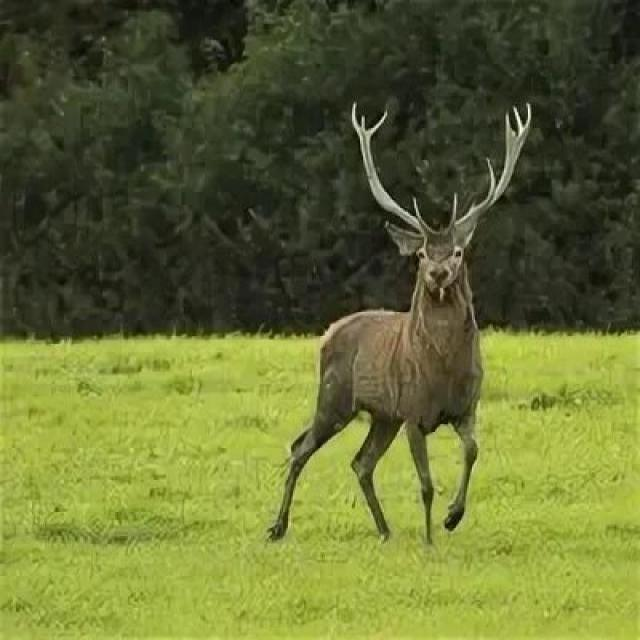deer: (230, 134, 527, 514)
